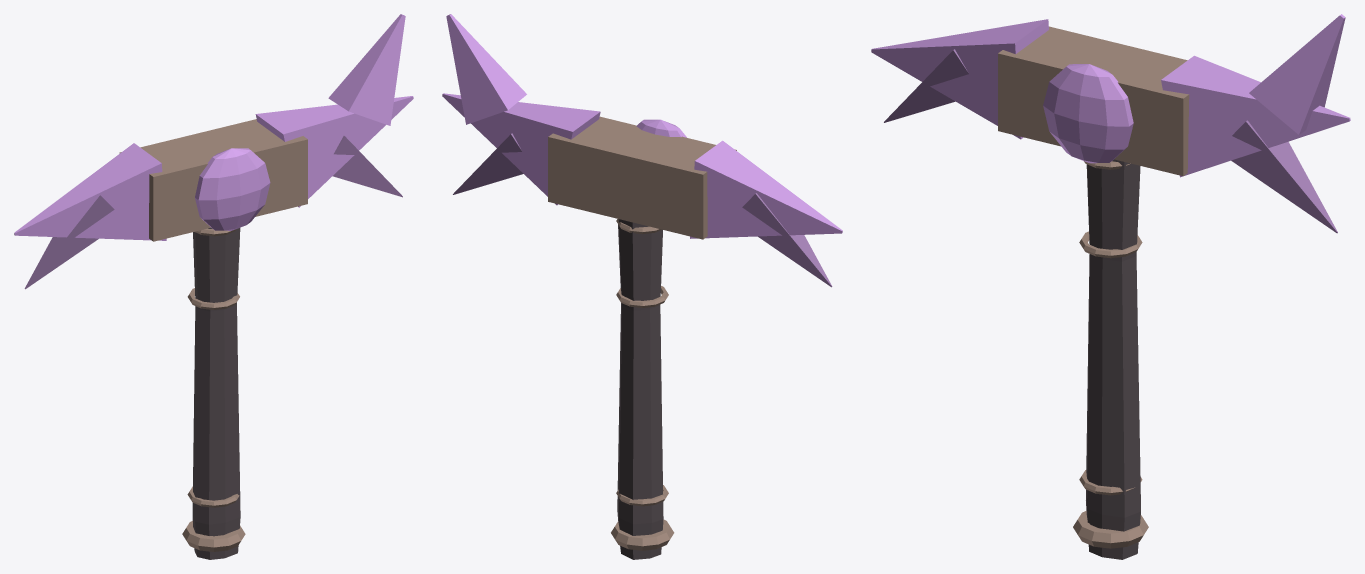
The model's file is BH_PICK_P13_Foice_de_Ecos_Noturnos_V01.glb.
3 views of the same model, side by side, from view 1: azimuth 30°, elevation 25°; view 2: azimuth 150°, elevation 25°; view 3: azimuth 330°, elevation 25° (orthographic). The views are drawn at different scales.
Parts seen in each view (by area): view 1: Handle | shaped shaft.001, Head | main crossbar.001, Head | mining tooth L.001, Head | mining tooth R.001, Core | socket gem.001, Head | crescent back.001, Head | hooked spur -1.001, Head | hooked spur 1.001, Handle | pommel.001; view 2: Head | main crossbar.001, Handle | shaped shaft.001, Head | mining tooth L.001, Head | mining tooth R.001, Head | crescent back.001, Head | hooked spur -1.001, Head | hooked spur 1.001, Handle | pommel.001, Core | socket gem.001; view 3: Handle | shaped shaft.001, Head | main crossbar.001, Head | mining tooth R.001, Head | mining tooth L.001, Core | socket gem.001, Head | crescent back.001, Head | hooked spur 1.001, Head | hooked spur -1.001, Handle | pommel.001, Handle | binding 3.001.
Boxes of the visible parts, x1=… form: Handle | shaped shaft.001: x1=192, y1=228, x2=240, y2=559; Head | main crossbar.001: x1=119, y1=119, x2=307, y2=241; Head | mining tooth L.001: x1=14, y1=143, x2=166, y2=240; Head | mining tooth R.001: x1=255, y1=96, x2=413, y2=207; Core | socket gem.001: x1=195, y1=148, x2=270, y2=230; Head | crescent back.001: x1=328, y1=14, x2=405, y2=125; Head | hooked spur -1.001: x1=24, y1=195, x2=114, y2=289; Head | hooked spur 1.001: x1=333, y1=136, x2=402, y2=197; Handle | pommel.001: x1=182, y1=521, x2=245, y2=551; Head | main crossbar.001: x1=548, y1=116, x2=736, y2=239; Handle | shaped shaft.001: x1=617, y1=219, x2=663, y2=559; Head | mining tooth L.001: x1=690, y1=140, x2=842, y2=238; Head | mining tooth R.001: x1=442, y1=93, x2=600, y2=205; Head | crescent back.001: x1=446, y1=14, x2=526, y2=124; Head | hooked spur -1.001: x1=742, y1=193, x2=832, y2=287; Head | hooked spur 1.001: x1=453, y1=133, x2=523, y2=194; Handle | pommel.001: x1=611, y1=519, x2=674, y2=550; Core | socket gem.001: x1=636, y1=119, x2=686, y2=137; Handle | shaped shaft.001: x1=1086, y1=159, x2=1140, y2=559; Head | main crossbar.001: x1=998, y1=26, x2=1189, y2=176; Head | mining tooth R.001: x1=1161, y1=55, x2=1350, y2=177; Head | mining tooth L.001: x1=871, y1=19, x2=1048, y2=139; Core | socket gem.001: x1=1043, y1=64, x2=1133, y2=163; Head | crescent back.001: x1=1249, y1=14, x2=1345, y2=134; Head | hooked spur 1.001: x1=1231, y1=120, x2=1337, y2=233; Head | hooked spur -1.001: x1=884, y1=49, x2=968, y2=122; Handle | pommel.001: x1=1073, y1=511, x2=1148, y2=548; Handle | binding 3.001: x1=1079, y1=231, x2=1142, y2=258.
Size of the model in its own units: 2.32 by 2.73 by 0.44.
